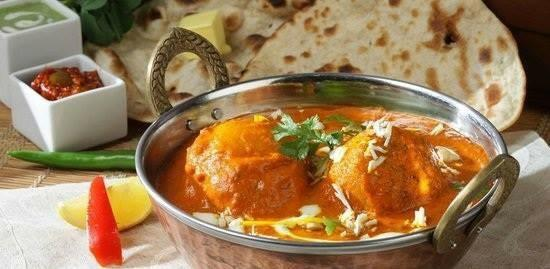DumAloo: (155, 104, 489, 239)
